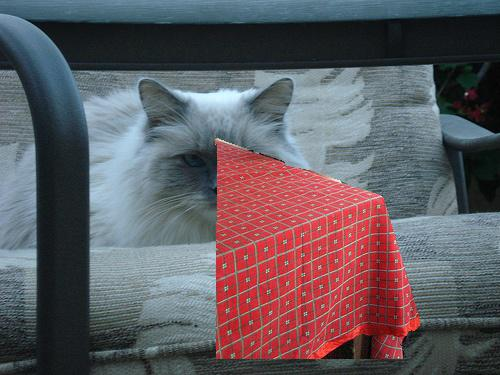tampered: (216, 137, 420, 359)
